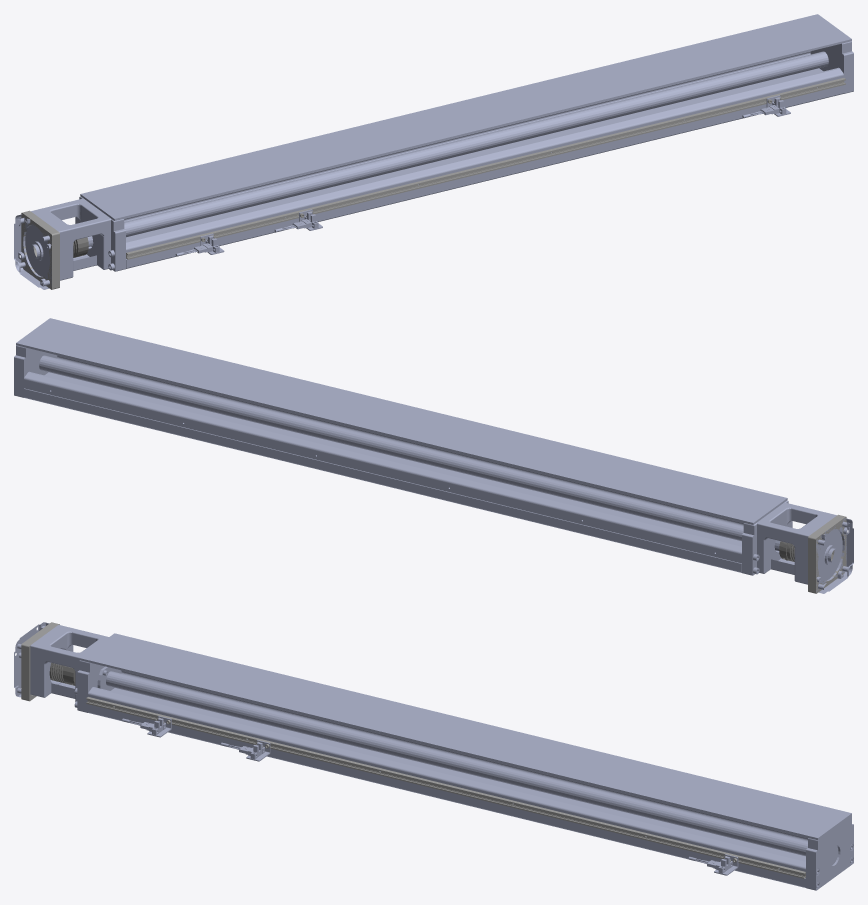
File: kk100_rail.glb
3 views of the same model, one above another, from view 1: azimuth 30°, elevation 25°; view 2: azimuth 150°, elevation 25°; view 3: azimuth 330°, elevation 25° (orthographic).
Visible parts, largest first — view 1: world; view 2: world; view 3: world.
Boxes of the visible parts, box(x1,y1,x2,y2) form: world: box(14, 14, 853, 289); world: box(14, 318, 853, 593); world: box(14, 622, 853, 890).
Bounding box in the file's own units: 1212 × 83 × 134.
